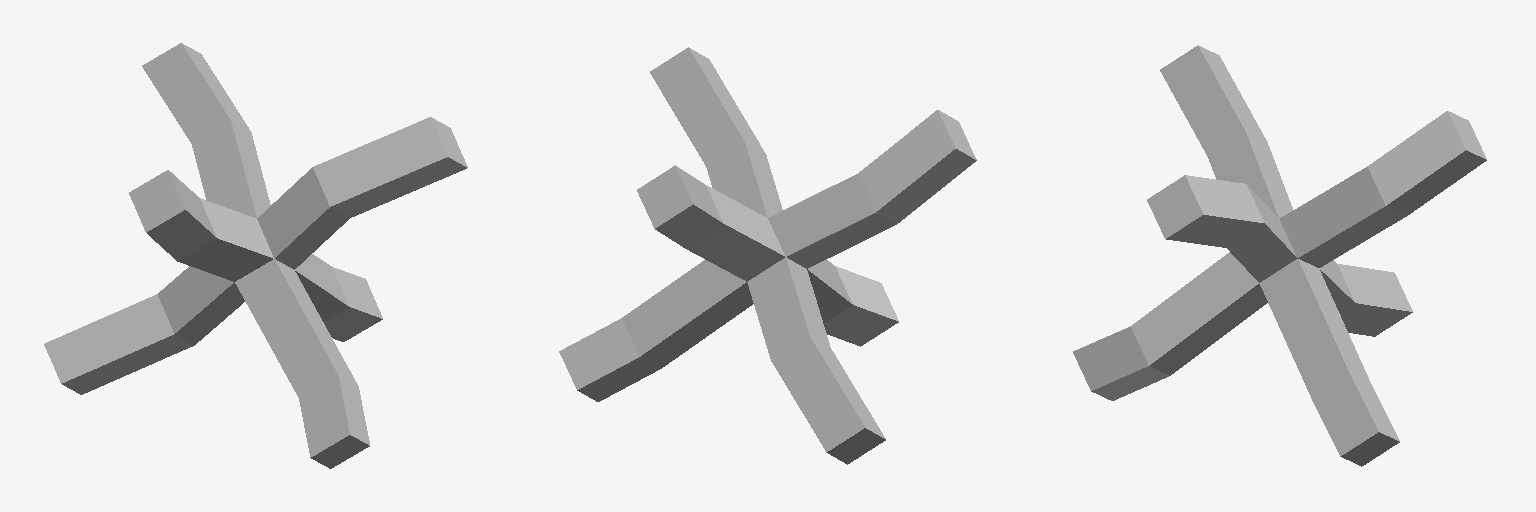
Rendered from Barrier_2.obj.
3 views of the same model, side by side, from view 1: azimuth 30°, elevation 25°; view 2: azimuth 150°, elevation 25°; view 3: azimuth 270°, elevation 25° (orthographic).
Visible parts, largest first — view 1: Cube.001_Cube.000; view 2: Cube.001_Cube.000; view 3: Cube.001_Cube.000.
Part boxes in pixels (bbox=[...]): Cube.001_Cube.000: bbox=[44, 43, 467, 468]; Cube.001_Cube.000: bbox=[559, 47, 976, 464]; Cube.001_Cube.000: bbox=[1073, 45, 1486, 466].
Bounding box in the file's own units: 0.4167 × 0.3738 × 0.4693.